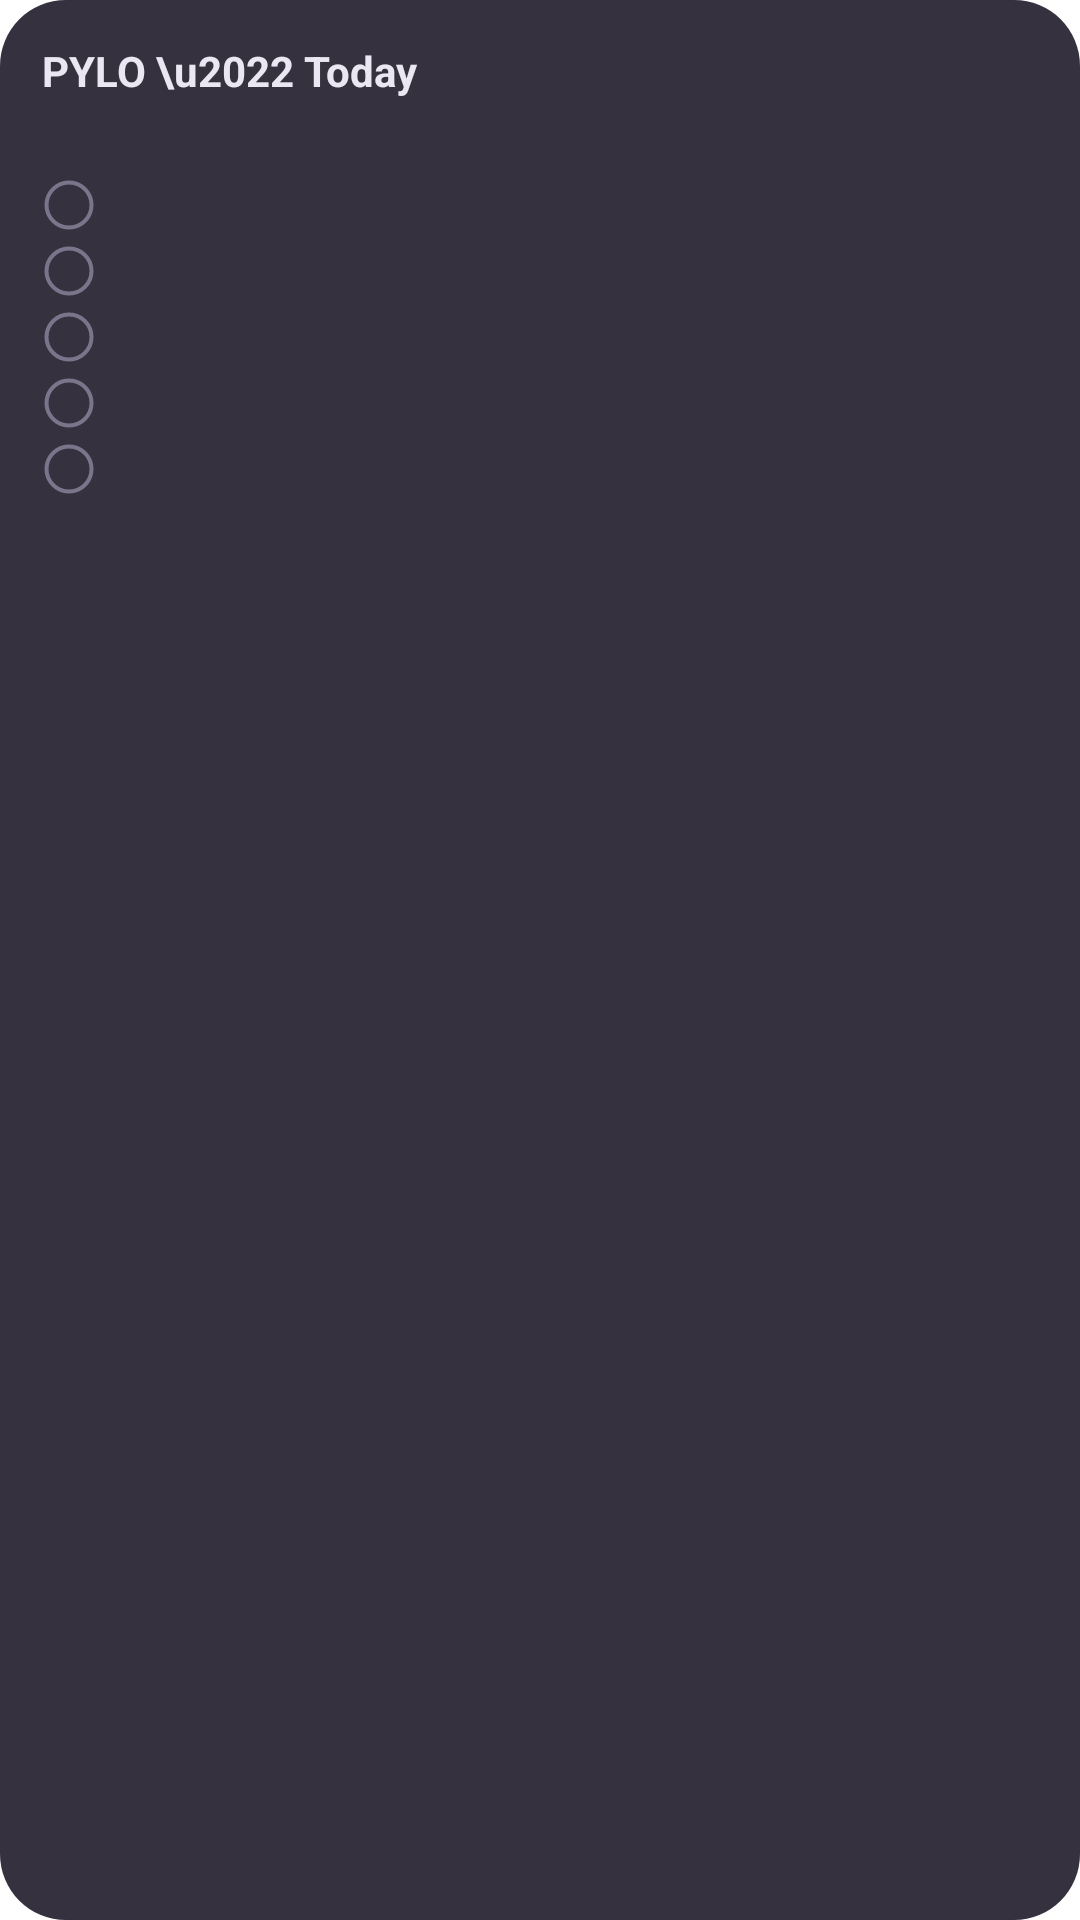

Icons on this 1080 × 1920 Android screen, each with its box as (x1=x1, y1=y1, x2=x2, y2=y2):
Complete task: (x1=44, y1=180, x2=94, y2=230), (x1=44, y1=246, x2=94, y2=296), (x1=44, y1=312, x2=94, y2=362), (x1=44, y1=378, x2=94, y2=428), (x1=44, y1=444, x2=94, y2=494)
